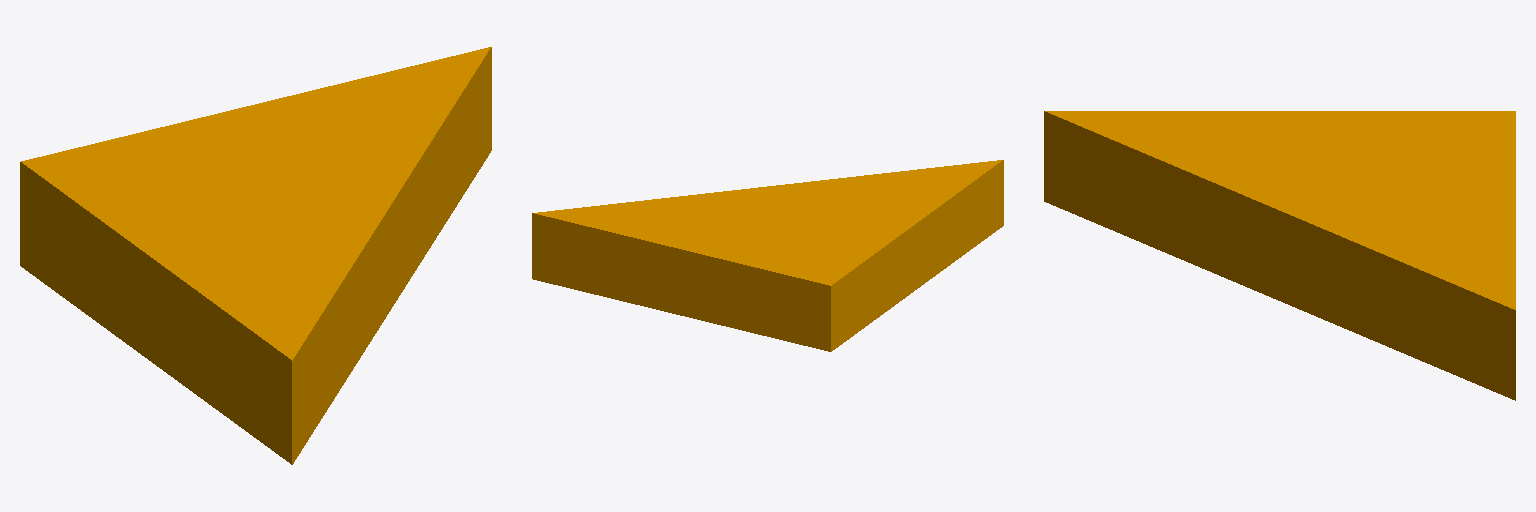
The robot description file, URDF, robot "MT":
<?xml version="0.0" ?>
<robot name="MT">
  <material name="Color">
    <color rgba="0.298, 0.886, 0.988, 1.0"/>
  </material>
  <link name="MT">
    <inertial>
      <origin rpy="0 0 0" xyz="0 0 0"/>
       <mass value=".0"/>
       <inertia ixx="0" ixy="0" ixz="0" iyy="0" iyz="0" izz="0"/>
    </inertial>
    <visual>
      <origin rpy="0 0 0" xyz="0 0 0"/>
      <geometry>
		<mesh filename="MT.obj" scale="0.001 0.001 0.001"/>
      </geometry>
      <material name="Color"/>
    </visual>
    <collision>
      <origin rpy="0 0 0" xyz="0 0 0"/>
      <geometry>
	 	<mesh filename="MT.obj" scale="1 1 1"/>
      </geometry>
    </collision>
  </link>
</robot>

--- What the picture shows (computed from the rendered views, not written in the file) ---
3 views of the same robot in one strip: view 1: azimuth 30°, elevation 25°; view 2: azimuth 150°, elevation 25°; view 3: azimuth 270°, elevation 25° (orthographic).
Model MT with 1 links and 0 joints (none), rooted at MT, posed all joints at 0.
Links seen in each view (by area): view 1: MT; view 2: MT; view 3: MT.
Boxes of the visible links, <box> form: MT: <box>20,47,491,464</box>; MT: <box>532,160,1003,351</box>; MT: <box>1044,111,1515,400</box>.
Bounding box of the posed robot: 0.1414 × 0.1414 × 0.03 m (x, y, z).
Meshes: 1 distinct files referenced, 1 mesh visuals loaded (1 OBJ).